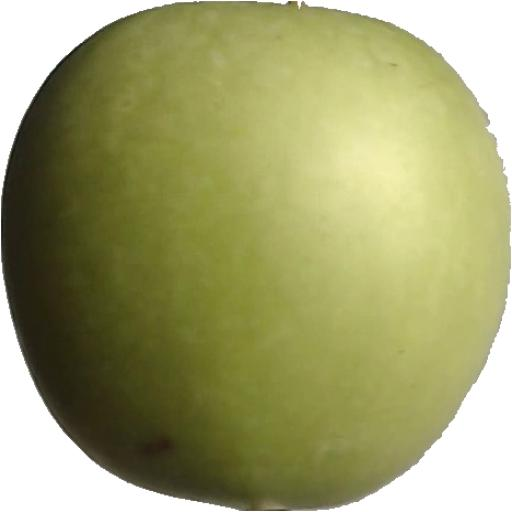apple-unripe: (0, 0, 512, 501)
